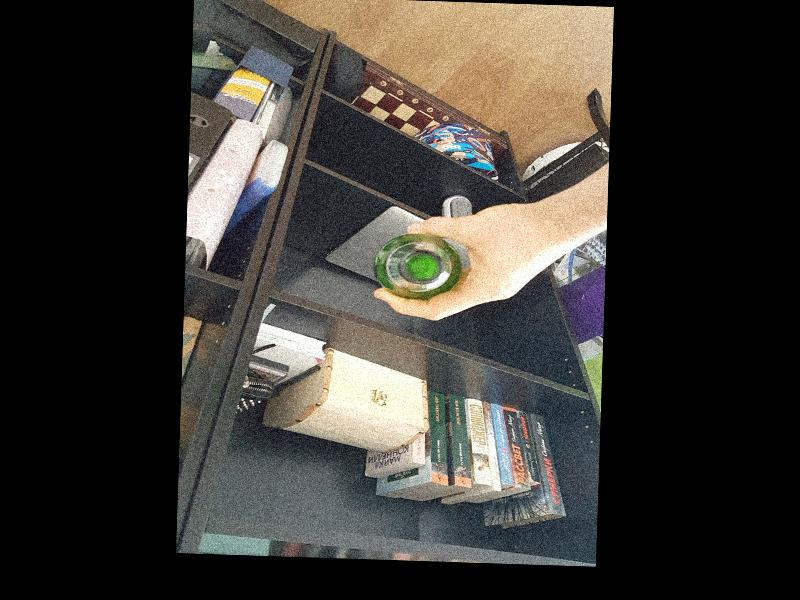Beer: (377, 231, 460, 300)
